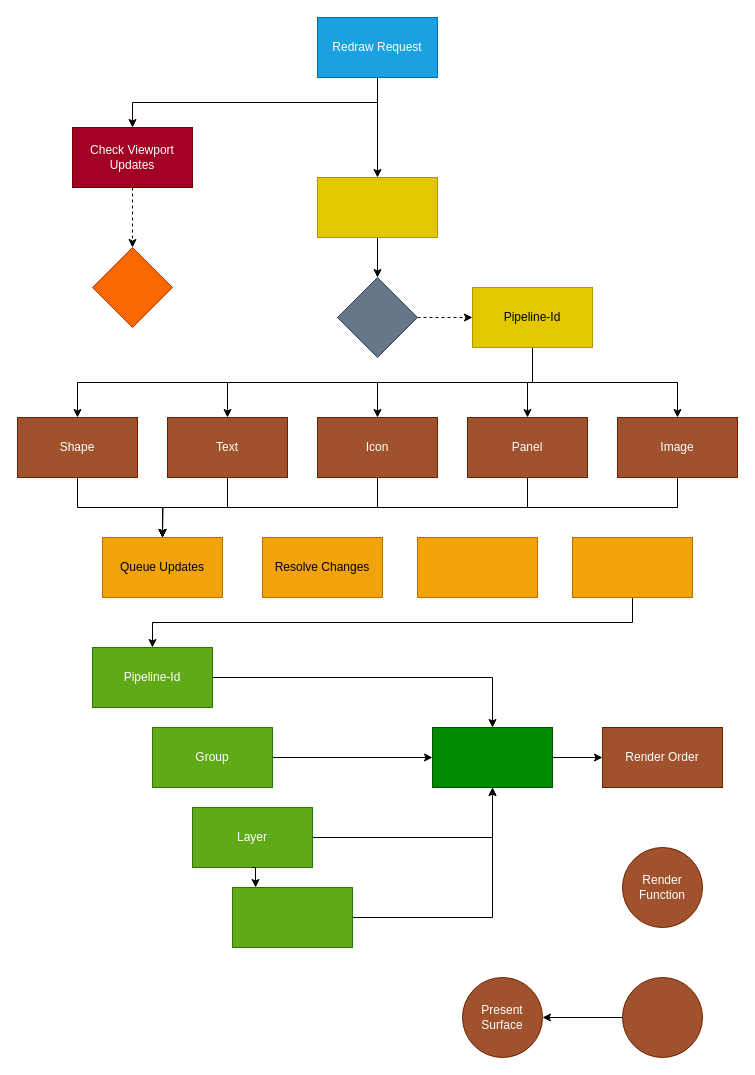
Image size: 755x1075. Some labels were removed from this diagram. Here are the shapes that lost their labels. From the top down, the box of each, then its label:
(316, 176, 438, 238): Entity-Id + Data
(92, 246, 172, 328): Resize
(336, 276, 418, 358): Cache Check
(416, 536, 538, 598): Write Buffers
(572, 536, 692, 598): Submit Render Node
(432, 726, 552, 788): Contiguous Sort
(232, 886, 352, 948): Instance
(622, 976, 702, 1058): Submit GPU
